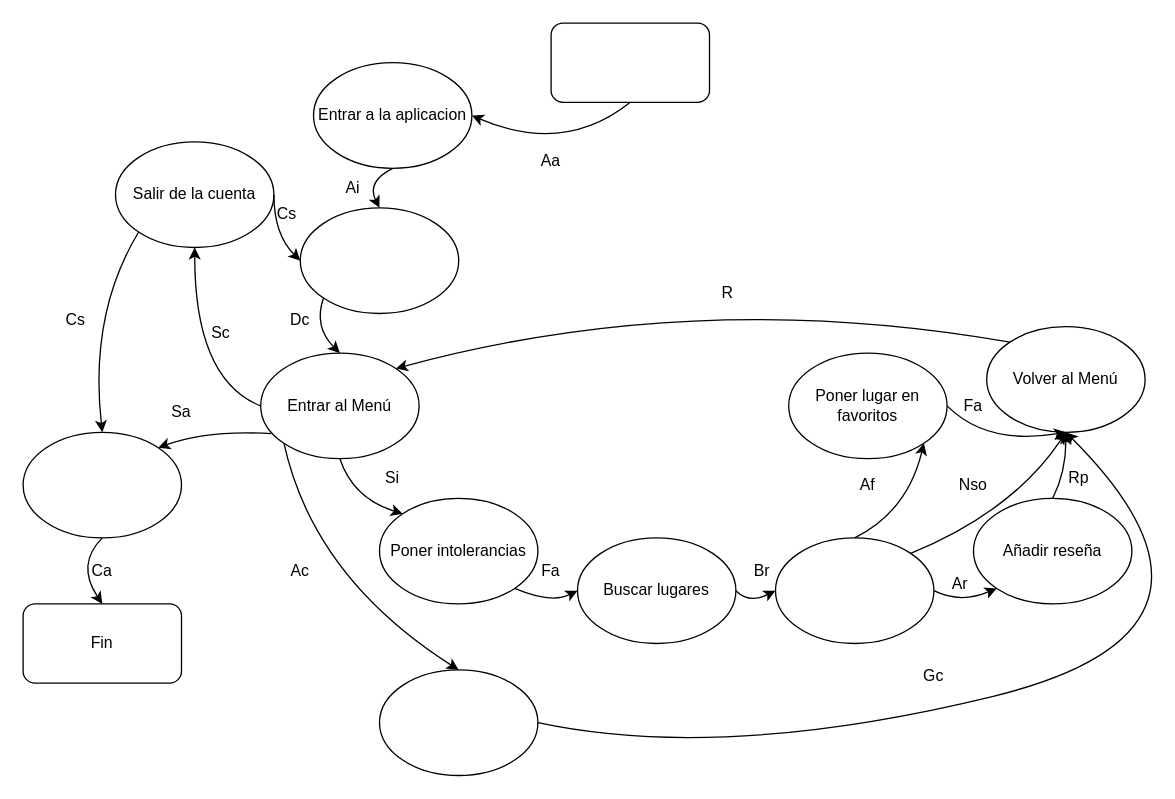
The diagram is 1175 pixels wide and 799 high, and some of its shapes have lost their labels. Here are the shapes that lost their labels. From the top down, the centre of each, then its label:
At (630,62): "Inicio".
At (379,260): "Ingresar a la cuenta".
At (102,484): "Salir de la aplicacion".
At (854,590): "Mostrar lugares".
At (458,722): "Configuracion".
